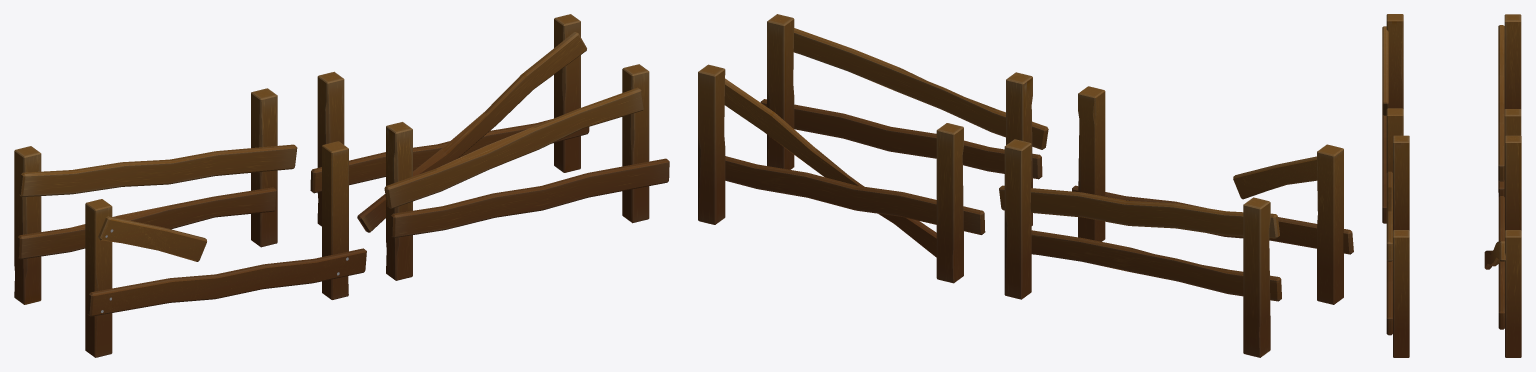
File: medieval_fence.glb
3 views of the same model, side by side, from view 1: azimuth 30°, elevation 25°; view 2: azimuth 150°, elevation 25°; view 3: azimuth 270°, elevation 25° (orthographic). The views are drawn at different scales.
Visible parts, largest first — view 1: pCube4 (×2), pCube3 (×2), polySurface4, pCube1 (×2), pCube2 (×2), pCube5, polySurface1, polySurface2, pCube6, polySurface3, pCube8, pCube7; view 2: pCube3 (×2), pCube4 (×2), pCube2 (×2), pCube1 (×2), pCube8, pCube7, pCube6, polySurface2, pCube5, polySurface1, polySurface3, polySurface4; view 3: pCube1 (×2), pCube2 (×2), pCube6, pCube4 (×2), pCube7, polySurface2, pCube8, polySurface1, pCube3, polySurface3, polySurface4, pCube5.
Part boxes in pixels (bbox=[...]): pCube4 (×2): bbox=[18, 144, 669, 237]; pCube3 (×2): bbox=[17, 87, 643, 259]; polySurface4: bbox=[87, 248, 366, 316]; pCube1 (×2): bbox=[14, 122, 412, 304]; pCube2 (×2): bbox=[251, 64, 649, 247]; pCube5: bbox=[357, 32, 586, 232]; polySurface1: bbox=[322, 141, 348, 299]; polySurface2: bbox=[85, 199, 112, 357]; pCube6: bbox=[554, 14, 580, 172]; polySurface3: bbox=[98, 216, 206, 261]; pCube8: bbox=[310, 119, 589, 193]; pCube7: bbox=[317, 71, 344, 226]; pCube3 (×2): bbox=[793, 28, 1281, 301]; pCube4 (×2): bbox=[760, 99, 1279, 238]; pCube2 (×2): bbox=[767, 14, 1031, 299]; pCube1 (×2): bbox=[1006, 72, 1270, 357]; pCube8: bbox=[725, 156, 985, 234]; pCube7: bbox=[936, 123, 963, 283]; pCube6: bbox=[698, 64, 725, 224]; polySurface2: bbox=[1317, 144, 1343, 304]; pCube5: bbox=[724, 78, 936, 257]; polySurface1: bbox=[1078, 86, 1105, 241]; polySurface3: bbox=[1233, 156, 1317, 199]; polySurface4: bbox=[1072, 185, 1353, 254]; pCube1 (×2): bbox=[1393, 14, 1521, 230]; pCube2 (×2): bbox=[1393, 109, 1521, 357]; pCube6: bbox=[1505, 230, 1521, 357]; pCube4 (×2): bbox=[1386, 25, 1504, 335]; pCube7: bbox=[1505, 135, 1521, 230]; polySurface2: bbox=[1386, 14, 1403, 108]; pCube8: bbox=[1498, 196, 1504, 329]; polySurface1: bbox=[1386, 108, 1403, 172]; pCube3: bbox=[1386, 171, 1392, 261]; polySurface3: bbox=[1382, 26, 1388, 115]; polySurface4: bbox=[1382, 114, 1386, 223]; pCube5: bbox=[1484, 241, 1505, 269].
Size of the model in its own units: 49.29 by 12.05 by 12.48.
Materials: 1 (1 with a texture image).
